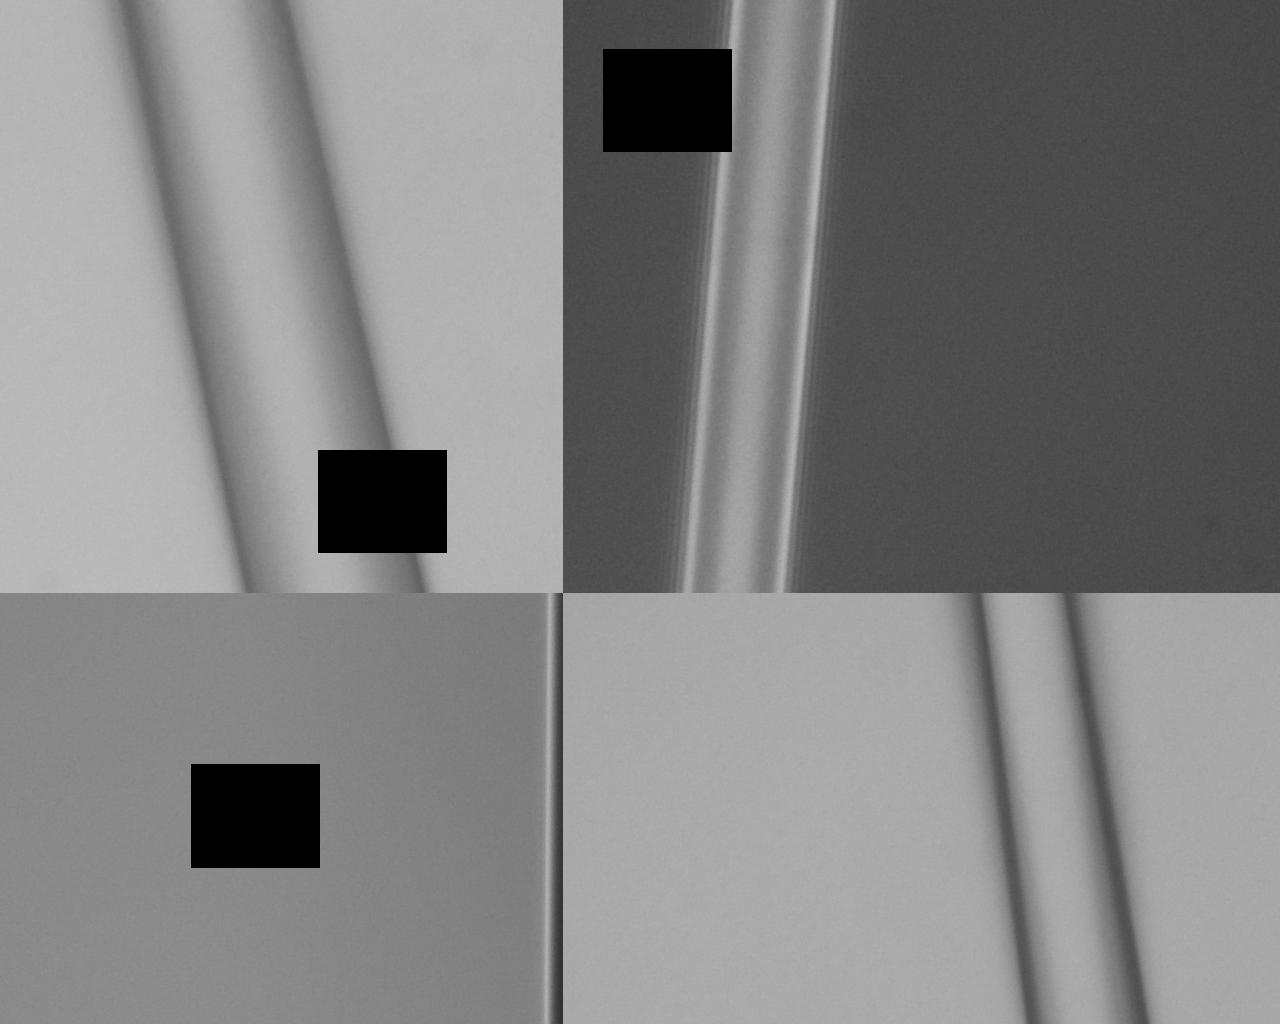fiber: (588, 389, 1280, 717), (0, 146, 588, 202)
